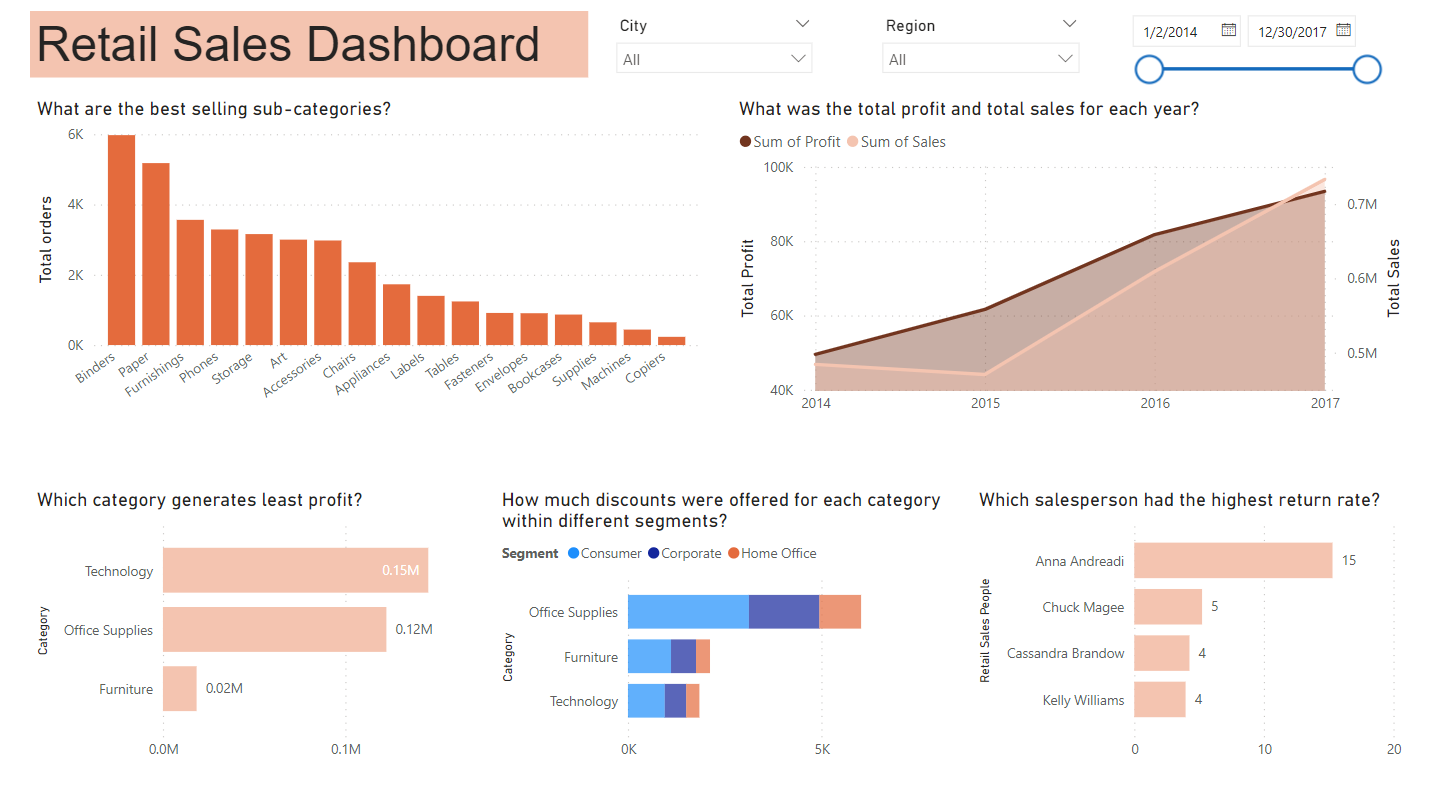

The page's visual inventory and layout, read from the dashboard file:
{"tool":"powerbi","page":{"name":"Profitability","canvas":[1280,720],"ordinal":1},"visuals":[{"type":"barChart","title":"Which category generates least profit?","fields":{"Category":["Retails Order Full Dataset.Category"],"Y":["Retails Order Full Dataset.Profit"]},"box":[32.8,439.8,378.6,250],"z":0},{"type":"columnChart","title":"What are the best selling sub-categories?","fields":{"Y":["Retails Order Full Dataset.Quantity"],"Category":["Retails Order Full Dataset.Sub-Category"]},"box":[32.8,93,597.6,290],"z":1000},{"type":"areaChart","title":"What was the total profit and total sales for each year?","fields":{"Category":["Retails Order Full Dataset.Order Date.Variation.Date Hierarchy.Year","Retails Order Full Dataset.Order Date.Variation.Date Hierarchy.Quarter","Retails Order Full Dataset.Order Date.Variation.Date Hierarchy.Month","Retails Order Full Dataset.Order Date.Variation.Date Hierarchy.Day"],"Y":["Retails Order Full Dataset.Profit"],"Y2":["Retails Order Full Dataset.Sales"]},"box":[655.3,93,597.6,290],"z":2000},{"type":"barChart","title":"How much discounts were offered for each category within different segments?","fields":{"Y":["Retails Order Full Dataset.Discount"],"Category":["Retails Order Full Dataset.Category"],"Series":["Retails Order Full Dataset.Segment"]},"box":[445.1,439.9,403.4,250],"z":3000},{"type":"barChart","title":"Which salesperson had the highest return rate?","fields":{"Category":["Retails Order Full Dataset.Retail Sales People"],"Y":["All measures.Return rate"]},"box":[868.1,439.9,384.8,250],"z":4000},{"type":"textbox","box":[31.9,16.8,494.8,58.5],"z":5000},{"type":"slicer","fields":{"Values":["Retails Order Full Dataset.Order Date"]},"box":[996.8,10.8,242.6,79.4],"z":6000},{"type":"slicer","fields":{"Values":["Retails Order Full Dataset.Region"]},"box":[777.5,16.8,195.1,71.8],"z":7000},{"type":"slicer","fields":{"Values":["Retails Order Full Dataset.City"]},"box":[541.7,16.8,194.2,71.8],"z":8000}]}

Visuals, with their boxes in screenshot pixels (x1, y1, x2, y2), scaled from the page's 1280x720 canvas onto the 1430x787 screenshot:
"Which category generates least profit?" barChart: <region>37, 481, 460, 754</region>
"What are the best selling sub-categories?" columnChart: <region>37, 102, 704, 419</region>
"What was the total profit and total sales for each year?" areaChart: <region>732, 102, 1400, 419</region>
"How much discounts were offered for each category within different segments?" barChart: <region>497, 481, 948, 754</region>
"Which salesperson had the highest return rate?" barChart: <region>970, 481, 1400, 754</region>
textbox: <region>36, 18, 588, 82</region>
slicer - Retails Order Full Dataset.Order Date: <region>1114, 12, 1385, 99</region>
slicer - Retails Order Full Dataset.Region: <region>869, 18, 1087, 97</region>
slicer - Retails Order Full Dataset.City: <region>605, 18, 822, 97</region>
